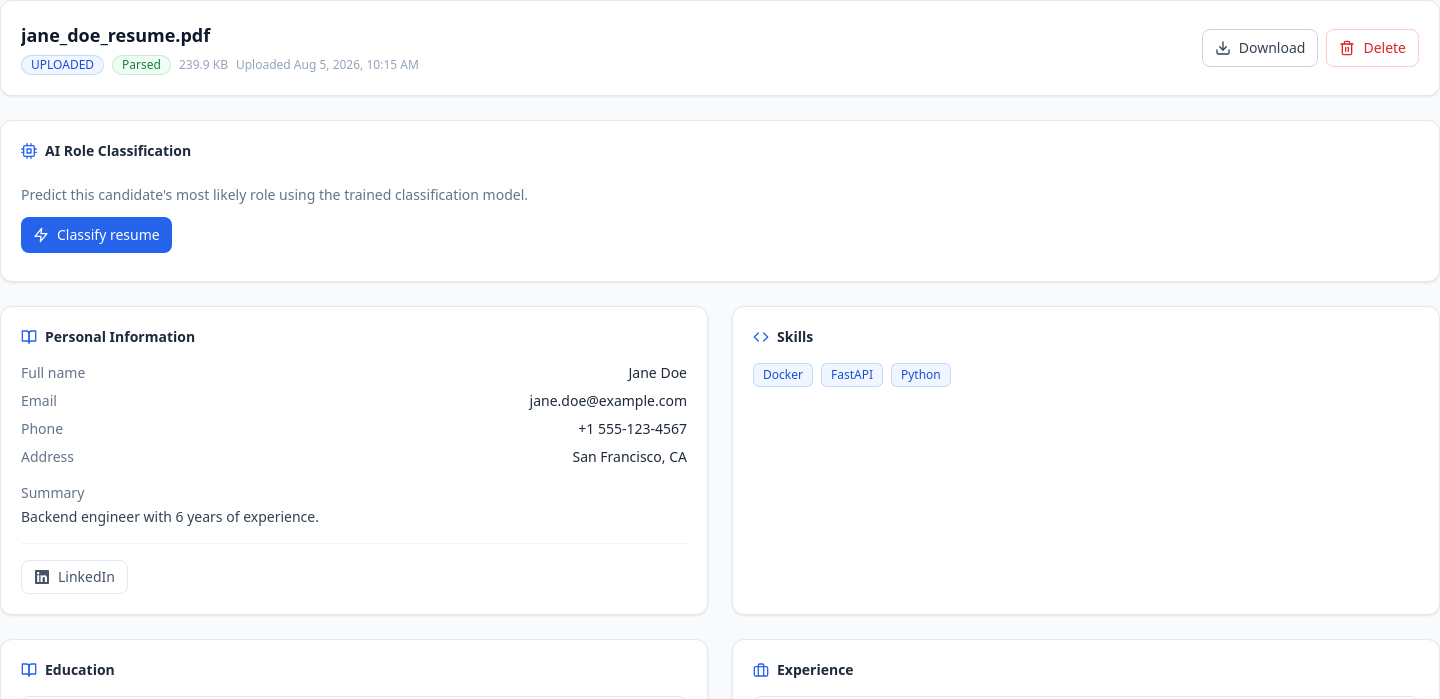
Test: ResumeDetails › surfaces a classification failure without breaking the page
Check: the heading "jane_doe_resume.pdf" is shown, box 21,23 -> 210,47
Click the button "Classify resume" at (96, 235), box 21,217 -> 172,253
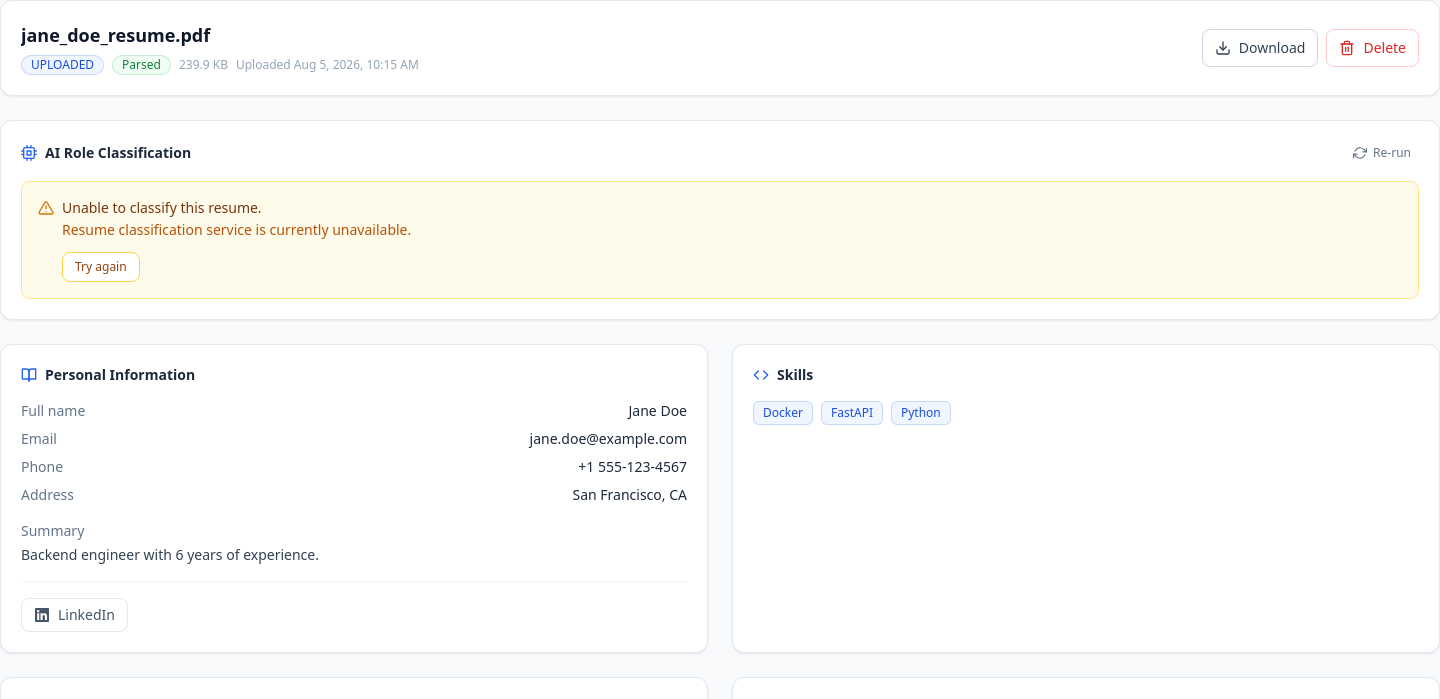
Check: the text "Jane Doe" is shown, box 628,401 -> 687,421
Check: the text "Unable to classify this resume." is shown, box 62,198 -> 262,217
